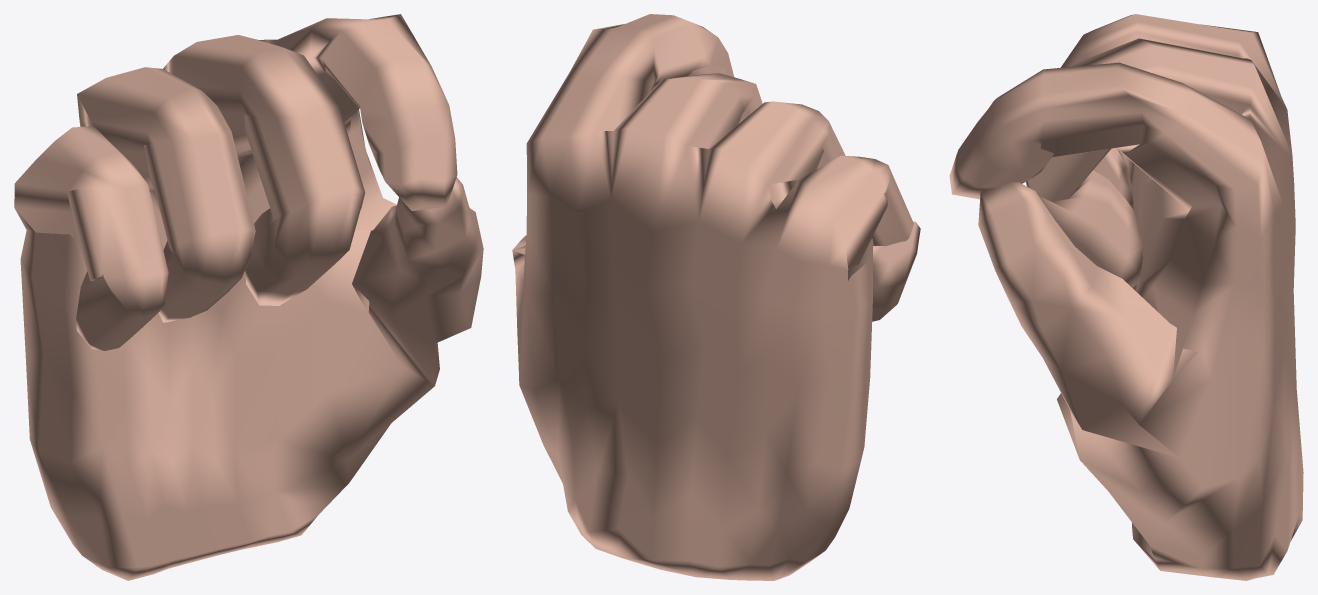
File: MAO_L_COM_O.obj
The picture shows the model from 3 angles, left to right: view 1: azimuth 30°, elevation 25°; view 2: azimuth 150°, elevation 25°; view 3: azimuth 270°, elevation 25°; orthographic projection. The views are drawn at different scales.
Visible parts, largest first — view 1: mao_dir:mao_dir; view 2: mao_dir:mao_dir; view 3: mao_dir:mao_dir.
Part boxes in pixels (left/top/right/bottom): mao_dir:mao_dir: left=14, top=14, right=483, bottom=580; mao_dir:mao_dir: left=512, top=14, right=920, bottom=580; mao_dir:mao_dir: left=949, top=14, right=1303, bottom=580.
Size of the model in its own units: 137 by 162 by 98.92.
